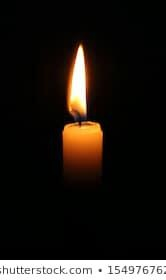fire: (65, 40, 88, 120)
